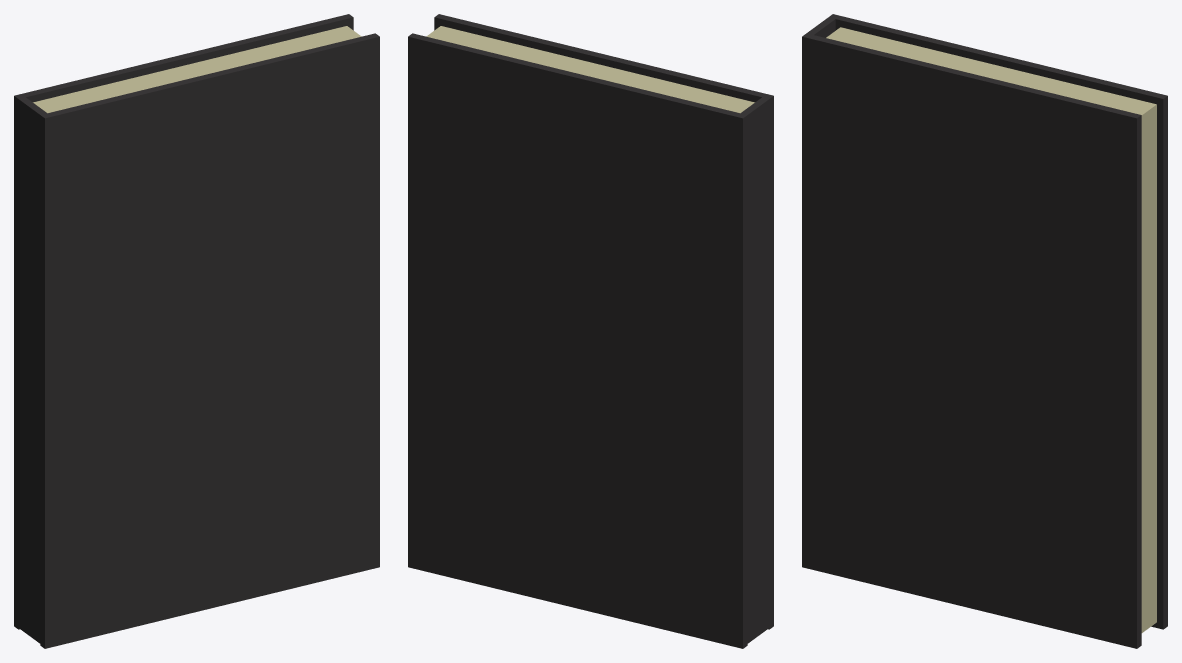
File: book222.fbx
3 renders of one model, left to right at view 1: azimuth 30°, elevation 25°; view 2: azimuth 150°, elevation 25°; view 3: azimuth 330°, elevation 25°, orthographic.
Visible parts, largest first — view 1: defter; view 2: defter; view 3: defter.
Boxes of the visible parts, x1,y1,x2,y2 form: defter: (14, 14, 379, 648); defter: (408, 14, 773, 648); defter: (802, 14, 1167, 648).
Bounding box in the file's own units: 416 × 630 × 66.58.
